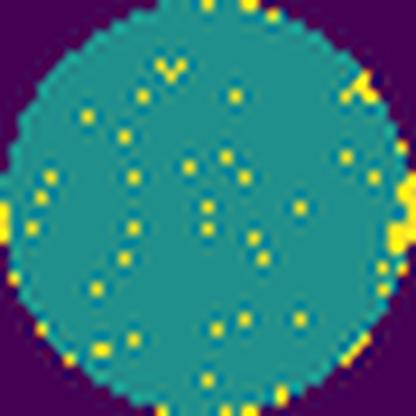Edge-Loc: (375, 164, 415, 260)
